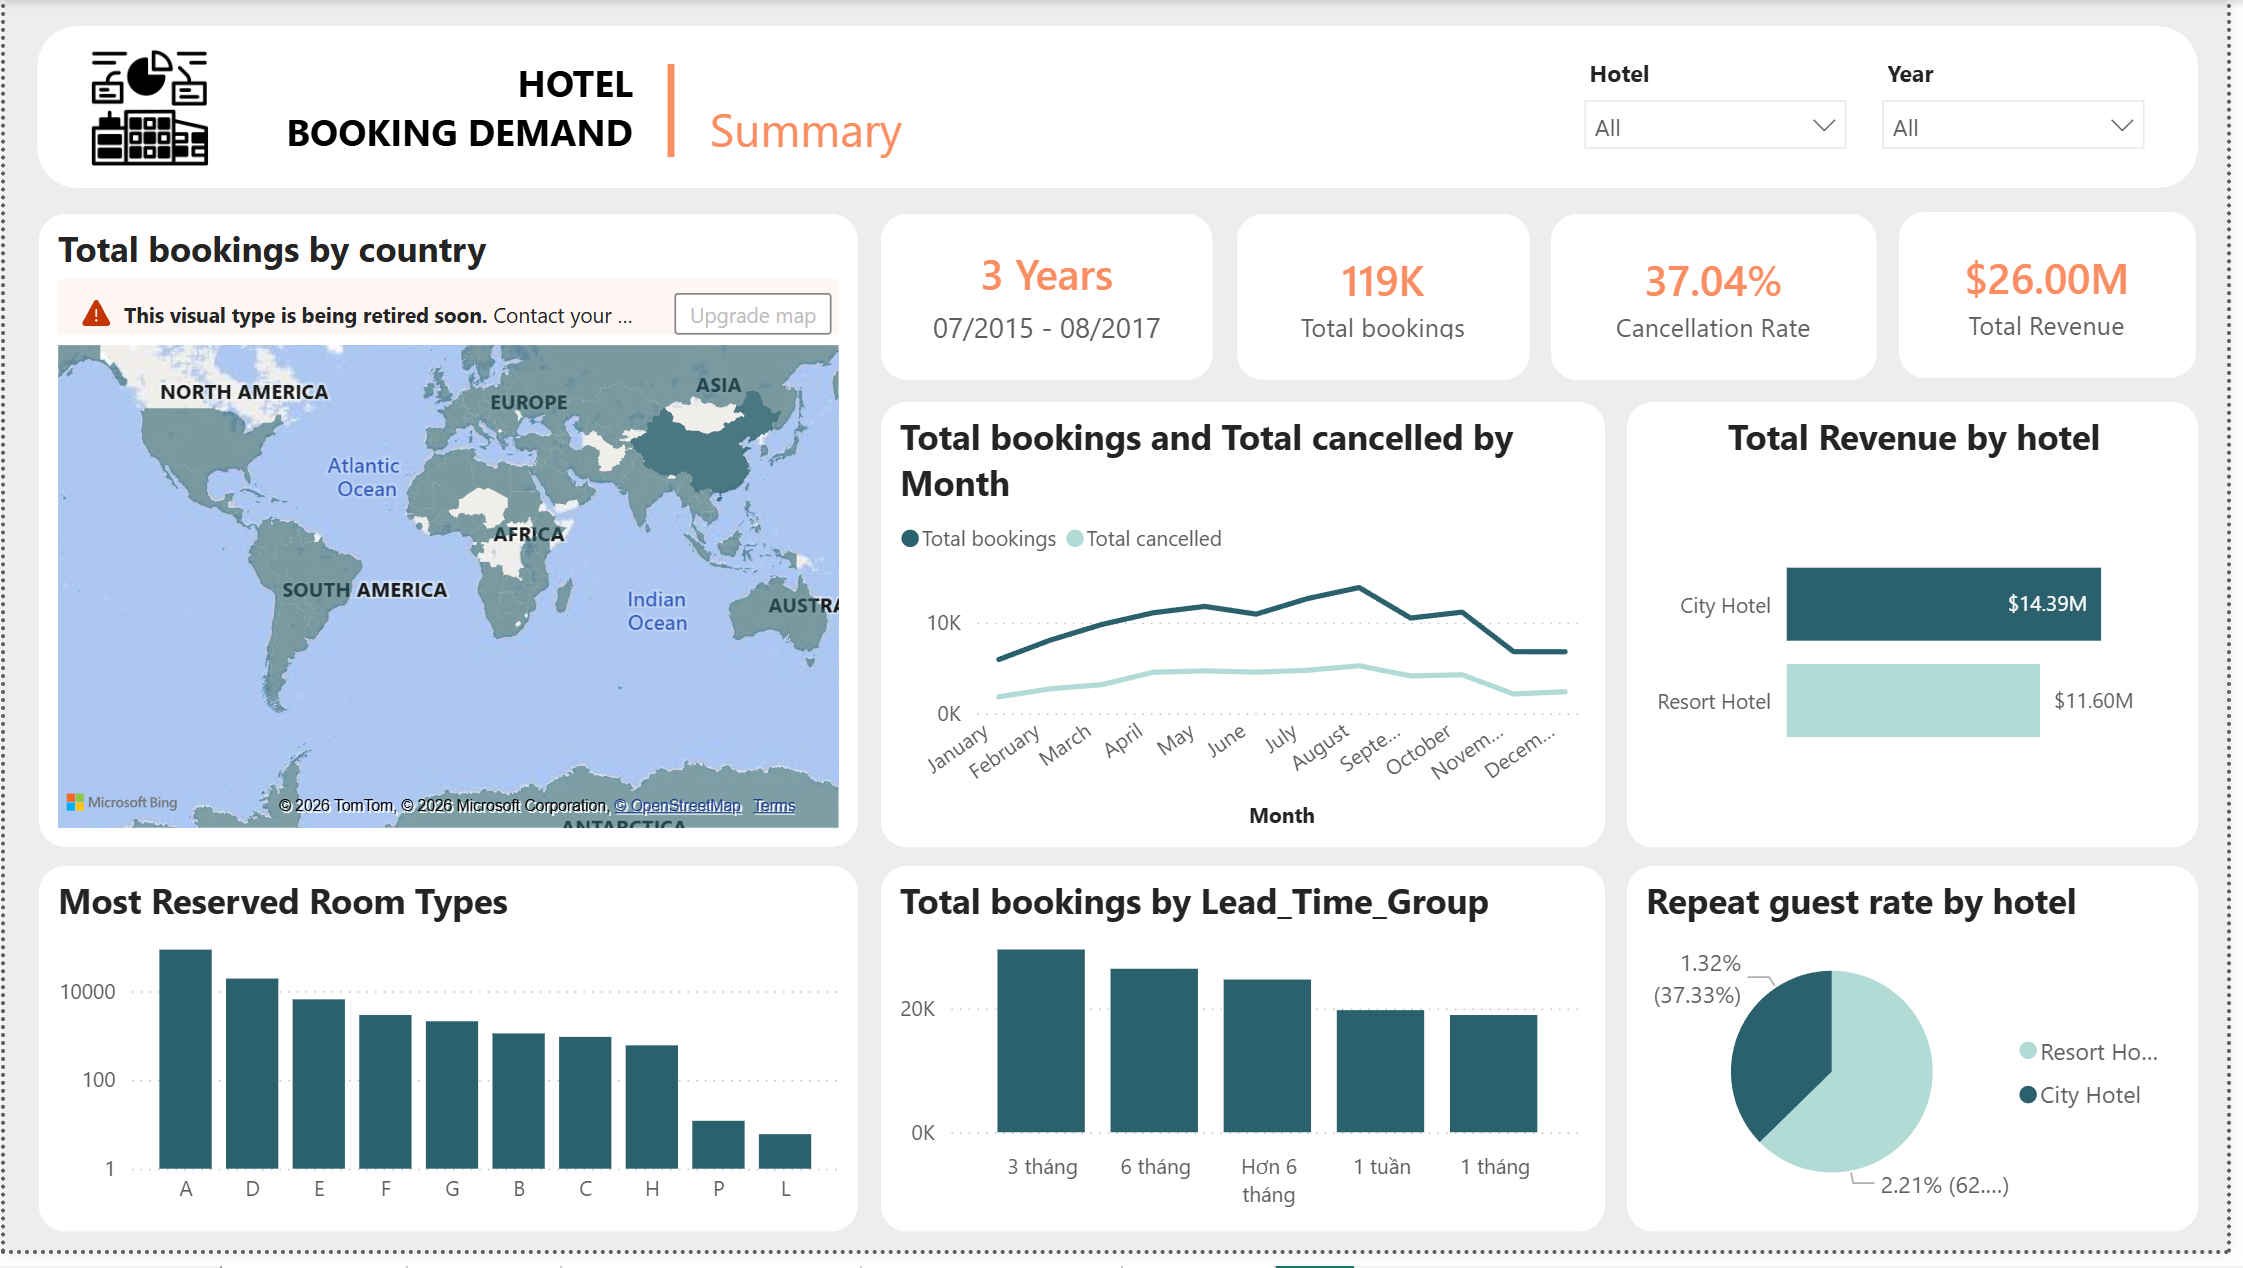

What the dashboard file says about the page in this screenshot:
{"tool":"powerbi","page":{"name":"Summary","canvas":[1280,720],"ordinal":0},"visuals":[{"type":"shape","box":[18.4,15.3,1244.8,93.4],"z":0},{"type":"textbox","box":[401.2,50.5,131.7,47.5],"z":0,"group":"g1"},{"type":"textbox","box":[372.1,15.3,29.1,82.7],"z":1000,"group":"g1"},{"type":"lineChart","fields":{"Y":["FactBookings.Total bookings","FactBookings.Total cancelled"],"Category":["DimDate.arrival_date.Variation.Date Hierarchy.Month"]},"box":[504.9,232,416.9,256.3],"z":1000},{"type":"textbox","box":[147,27.6,225.1,72],"z":2000},{"type":"image","box":[41.3,27.6,84.2,68.9],"z":3000},{"type":"group","id":"g1","title":"Group 1","box":[372.1,15.3,160.8,82.7],"z":4000},{"type":"cardVisual","fields":{"Data":["FactBookings.Revenue"]},"box":[1091.3,122.4,170.8,95.6],"z":5000},{"type":"cardVisual","fields":{"Data":["FactBookings.Cancellation Rate"]},"box":[890.7,123.7,187.4,95.6],"z":7000},{"type":"cardVisual","fields":{"Data":["FactBookings.Total bookings"]},"box":[709.3,123.7,168.3,95.6],"z":8000},{"type":"barChart","fields":{"Category":["DimHotel.hotel"],"Y":["FactBookings.Total Revenue"]},"box":[934.5,232,328.9,256.3],"z":9000},{"type":"cardVisual","fields":{"Data":["FactBookings.Total year"]},"box":[504.9,123.7,191.2,95.6],"z":10000},{"type":"filledMap","fields":{"Category":["DimCountry.country"]},"box":[19.1,123.7,471.7,364.6],"z":11000},{"type":"columnChart","title":"Most Reserved Room Types","fields":{"Y":["FactBookings.Total bookings"],"Category":["FactBookings.reserved_room_type"]},"box":[19.1,498.5,471.7,210.4],"z":12000},{"type":"pieChart","fields":{"Y":["FactBookings.Repeat guest rate"],"Category":["DimHotel.hotel"]},"box":[934.5,498.5,328.9,210.4],"z":13000},{"type":"columnChart","fields":{"Y":["FactBookings.Total bookings"],"Category":["FactBookings.Lead_Time_Group"]},"box":[504.9,498.5,416.9,210.4],"z":14000},{"type":"slicer","fields":{"Values":["DimHotel.hotel"]},"box":[899.4,27.4,170.8,68.8],"z":15000},{"type":"slicer","fields":{"Values":["DimDate.arrival_date.Variation.Date Hierarchy.Year"]},"box":[1071.6,27.4,170.8,68.8],"z":16000}]}

Visuals, with their boxes in screenshot pixels (x1, y1, x2, y2), scaled from the page's 1280x720 canvas onto the 2243x1268 screenshot:
shape: crop(32, 27, 2214, 191)
textbox: crop(703, 89, 934, 173)
textbox: crop(652, 27, 703, 173)
lineChart - FactBookings.Total bookings x FactBookings.Total cancelled: crop(885, 409, 1615, 860)
textbox: crop(258, 49, 652, 175)
image: crop(72, 49, 220, 170)
"Group 1" group: crop(652, 27, 934, 173)
cardVisual - FactBookings.Revenue: crop(1912, 216, 2212, 384)
cardVisual - FactBookings.Cancellation Rate: crop(1561, 218, 1889, 386)
cardVisual - FactBookings.Total bookings: crop(1243, 218, 1538, 386)
barChart - DimHotel.hotel x FactBookings.Total Revenue: crop(1638, 409, 2214, 860)
cardVisual - FactBookings.Total year: crop(885, 218, 1220, 386)
filledMap - DimCountry.country: crop(33, 218, 860, 860)
"Most Reserved Room Types" columnChart: crop(33, 878, 860, 1248)
pieChart - FactBookings.Repeat guest rate x DimHotel.hotel: crop(1638, 878, 2214, 1248)
columnChart - FactBookings.Total bookings x FactBookings.Lead_Time_Group: crop(885, 878, 1615, 1248)
slicer - DimHotel.hotel: crop(1576, 48, 1875, 169)
slicer - DimDate.arrival_date.Variation.Date Hierarchy.Year: crop(1878, 48, 2177, 169)
